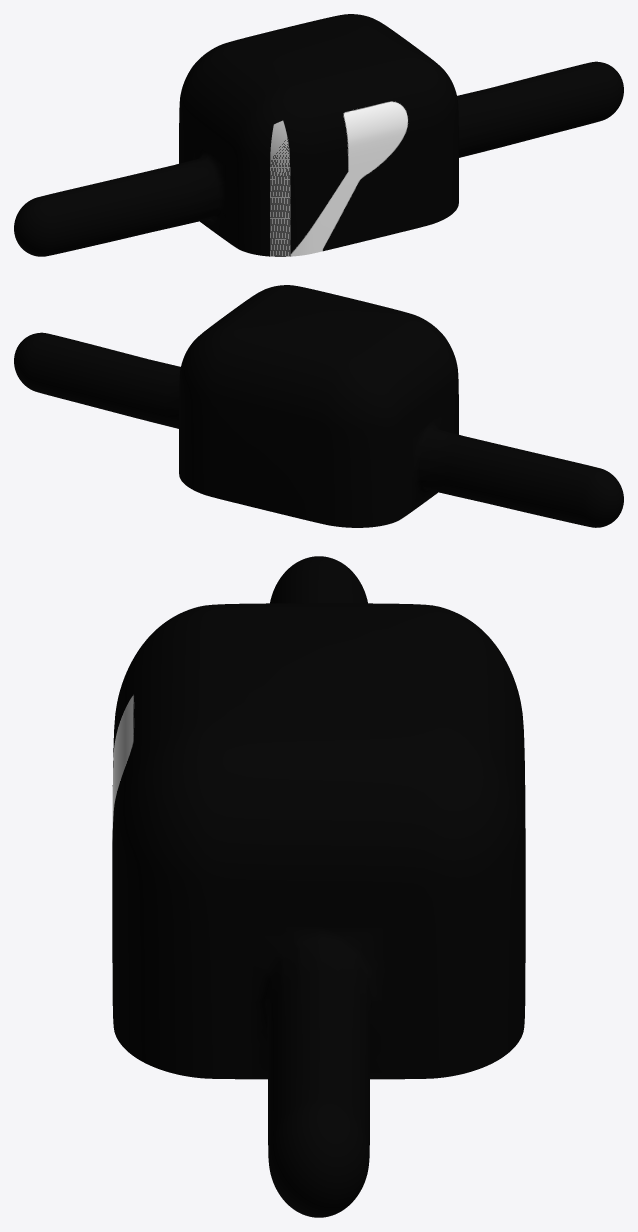
The model's file is mascot.glb.
3 views of the same model, one above another, from view 1: azimuth 30°, elevation 25°; view 2: azimuth 150°, elevation 25°; view 3: azimuth 270°, elevation 25° (orthographic). The views are drawn at different scales.
Parts seen in each view (by area): view 1: Cube.038; view 2: Cube.038; view 3: Cube.038.
Boxes of the visible parts, x1=… form: Cube.038: x1=14, y1=14, x2=623, y2=256; Cube.038: x1=14, y1=285, x2=623, y2=527; Cube.038: x1=112, y1=556, x2=525, y2=1217.
Bounding box in the file's own units: 5.09 × 1.23 × 1.51.
1 material, 1 textured.
